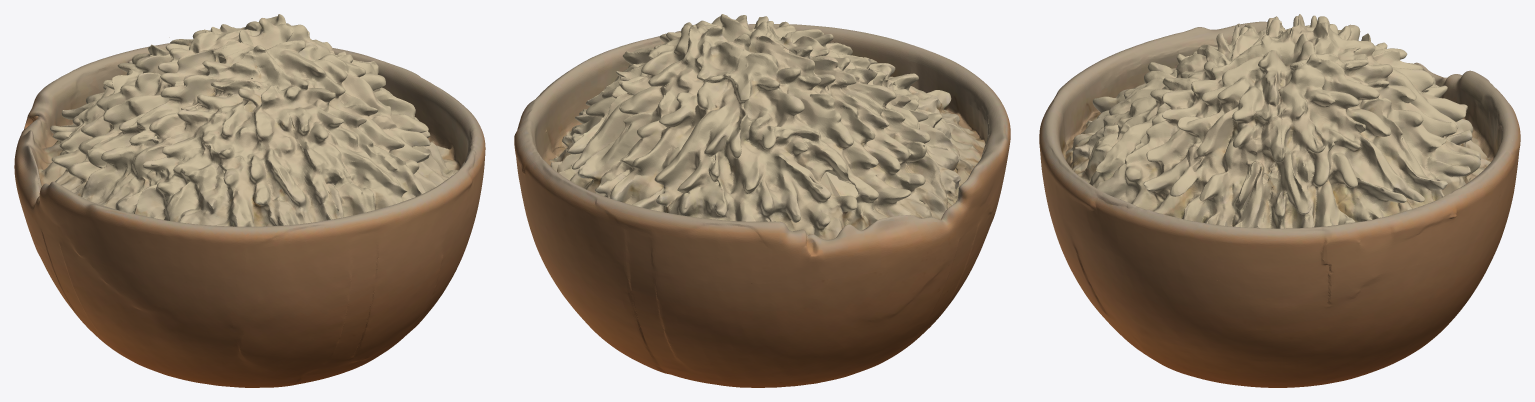
Rendered from basmatiRice.glb.
The picture shows the model from 3 angles, left to right: view 1: azimuth 30°, elevation 25°; view 2: azimuth 150°, elevation 25°; view 3: azimuth 270°, elevation 25°; orthographic projection. The views are drawn at different scales.
Visible parts, largest first — view 1: tripo_node_f14a7683-db2c-49aa-94f5-fb6ccd2084e8; view 2: tripo_node_f14a7683-db2c-49aa-94f5-fb6ccd2084e8; view 3: tripo_node_f14a7683-db2c-49aa-94f5-fb6ccd2084e8.
Part boxes in pixels (box(x1,y1,x2,y2)): tripo_node_f14a7683-db2c-49aa-94f5-fb6ccd2084e8: box(14, 14, 485, 387); tripo_node_f14a7683-db2c-49aa-94f5-fb6ccd2084e8: box(514, 14, 1010, 387); tripo_node_f14a7683-db2c-49aa-94f5-fb6ccd2084e8: box(1039, 14, 1520, 387).
Size of the model in its own units: 1 by 0.6886 by 0.996.
1 material, 1 textured.
